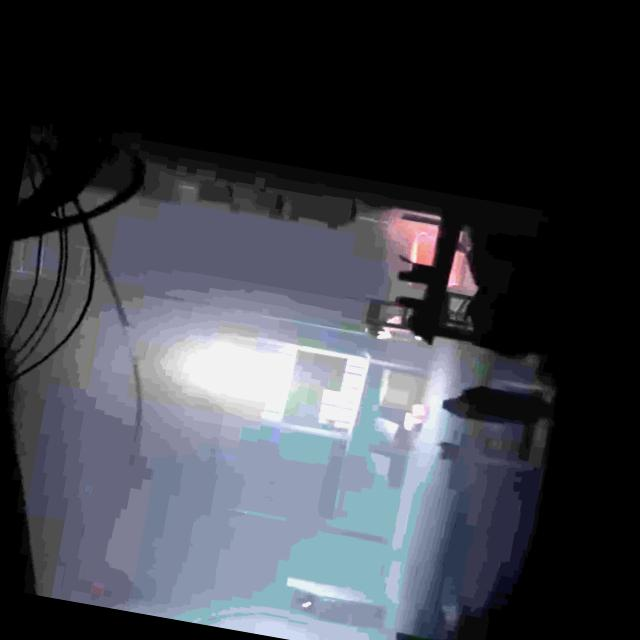boy: (364, 320, 444, 350)
